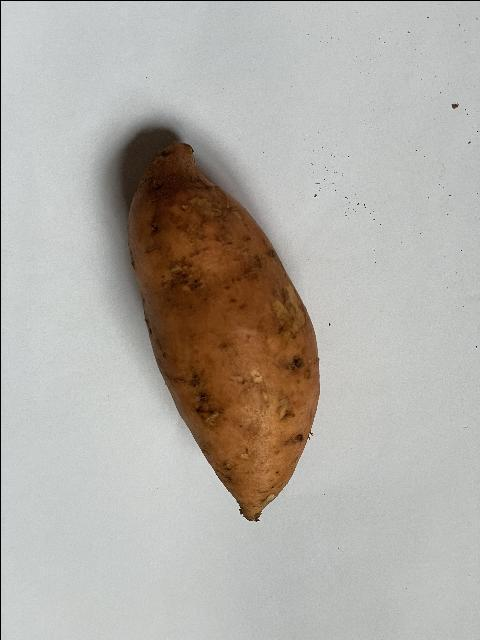sweetpotato: (121, 136, 323, 528)
